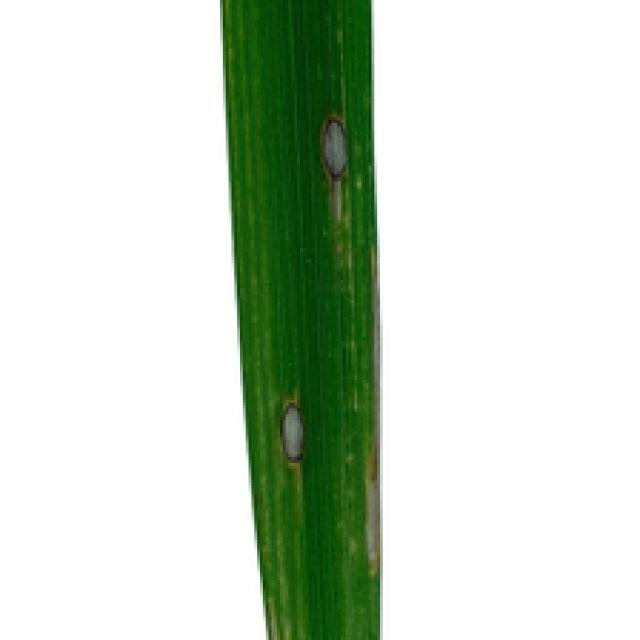Rice___Rice_Blast: (218, 0, 384, 637)
